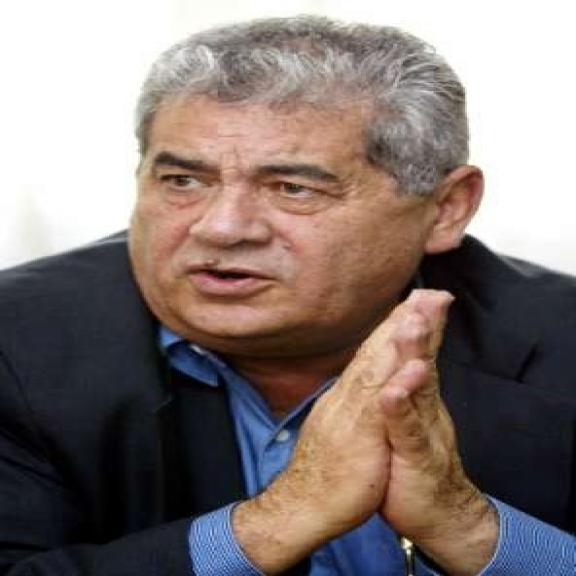face: (154, 72, 484, 341)
